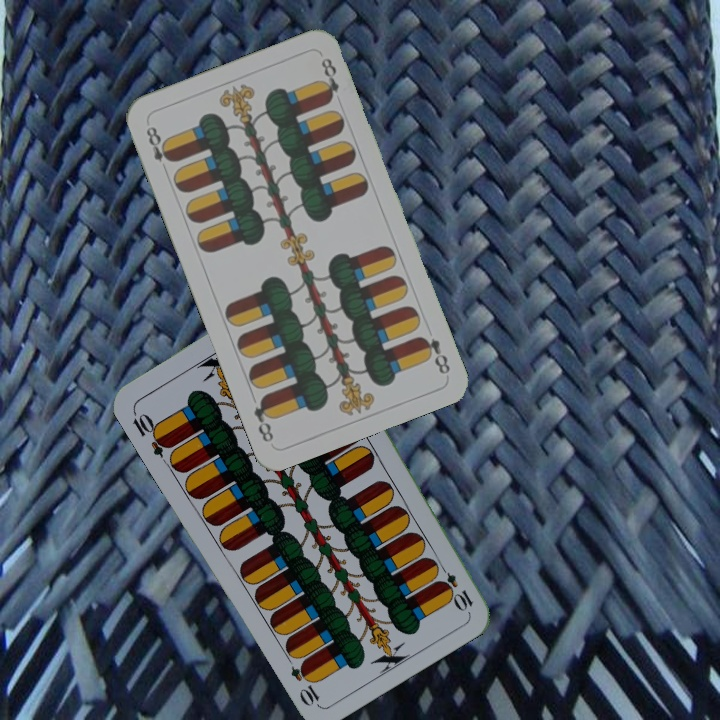E10: (128, 406, 174, 460), (433, 559, 476, 613)
E8: (415, 332, 453, 377), (142, 122, 176, 165)
